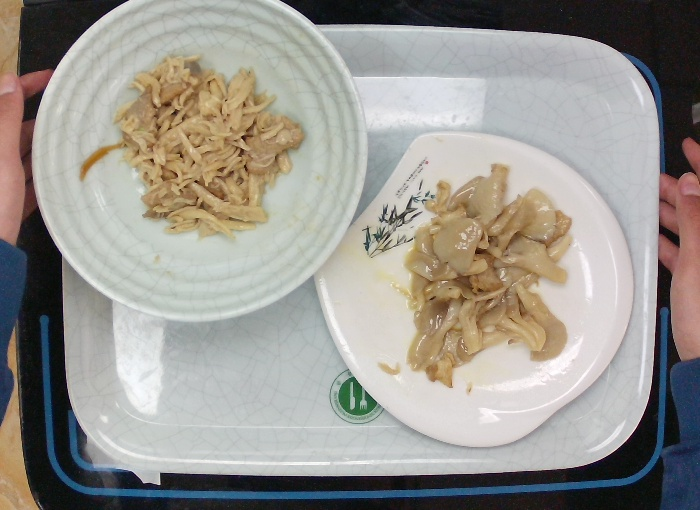JYsf-Da_Tang_Wan: (25, 1, 372, 327)
JYsf-Mian_Pan: (310, 123, 638, 453)
